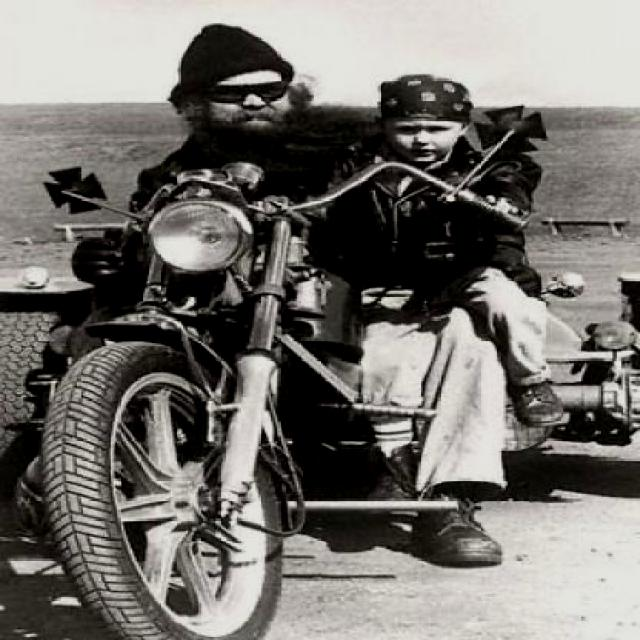Without Helmet: (166, 19, 308, 144), (372, 70, 466, 162)
